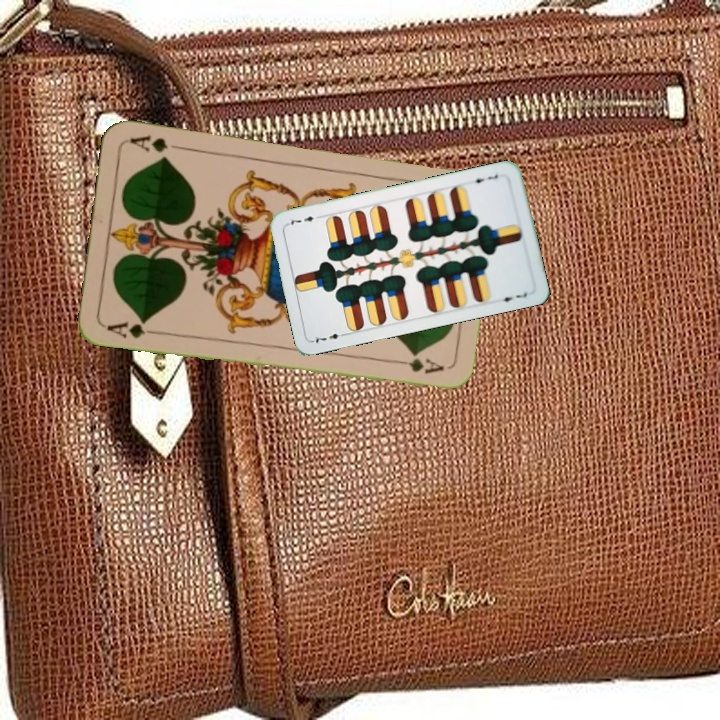E7: (309, 329, 349, 345), (467, 170, 501, 186)
GA: (103, 316, 160, 341)
